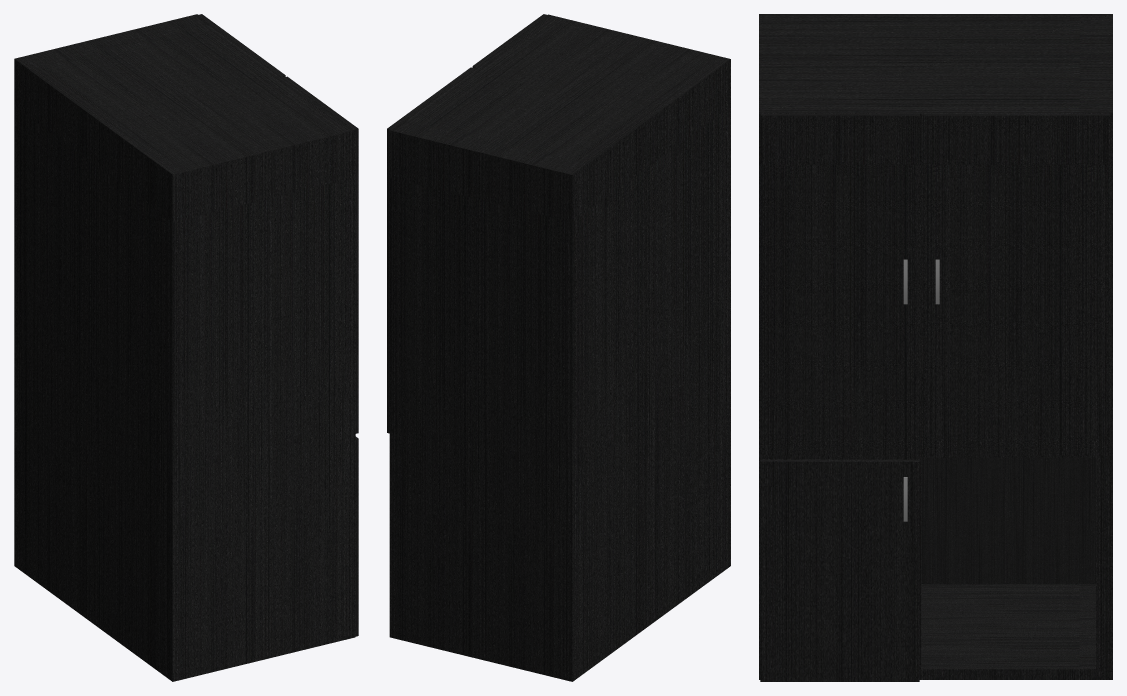
Rendered from Cupboard_T.FBX.
3 renders of one model, left to right at view 1: azimuth 30°, elevation 25°; view 2: azimuth 150°, elevation 25°; view 3: azimuth 270°, elevation 25°, orthographic. The views are drawn at different scales.
Parts seen in each view (by area): view 1: Cupboard_T; view 2: Cupboard_T; view 3: Cupboard_T.
Boxes of the visible parts, x1,y1,x2,y2 form: Cupboard_T: [14, 14, 358, 681]; Cupboard_T: [387, 14, 730, 681]; Cupboard_T: [759, 14, 1112, 681].
Size of the model in its own units: 46.71 by 120 by 67.91.
